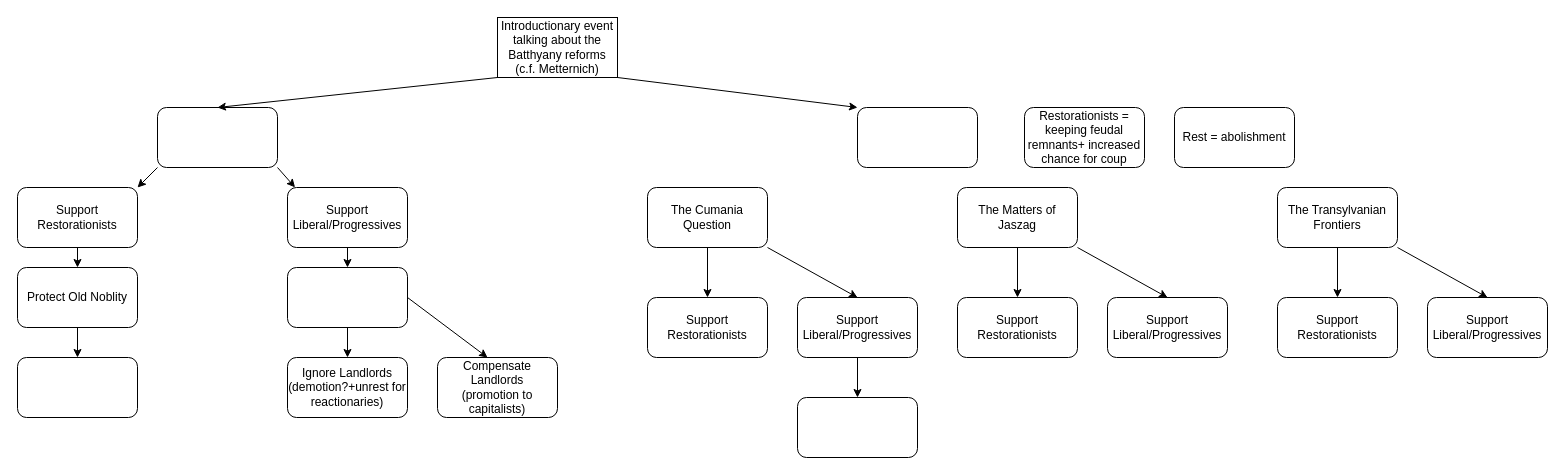
The diagram is 1565 pixels wide and 475 high, and some of its shapes have lost their labels. Here are the shapes that lost their labels. From the top down, the centre of each, then its label:
[217,137]: Parliamentary Debate: Serfdom
[917,137]: Parliamentary Debate: Feudalist Remnants
[347,297]: Abolish Landlordism
[77,387]: +3 to chance for coup
[857,427]: Cuman Uprising + German Reactions
